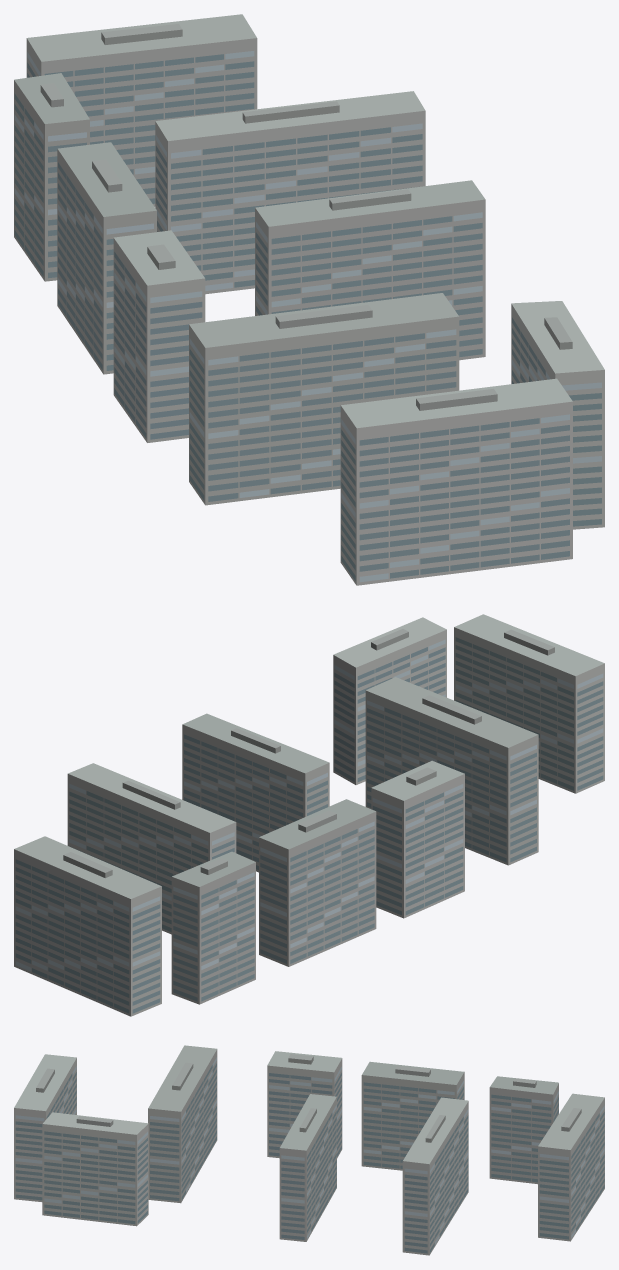
File: apt-a15703308.glb
3 renders of one model, top to bottom at view 1: azimuth 30°, elevation 25°; view 2: azimuth 150°, elevation 25°; view 3: azimuth 270°, elevation 25°, orthographic. The views are drawn at different scales.
Parts seen in each view (by area): view 1: apt-a15703308; view 2: apt-a15703308; view 3: apt-a15703308.
Boxes of the visible parts, x1,y1,x2,y2 form: apt-a15703308: (14, 14, 604, 585); apt-a15703308: (14, 614, 604, 1016); apt-a15703308: (14, 1045, 604, 1255).
Size of the model in its own units: 128 by 47.81 by 268.
